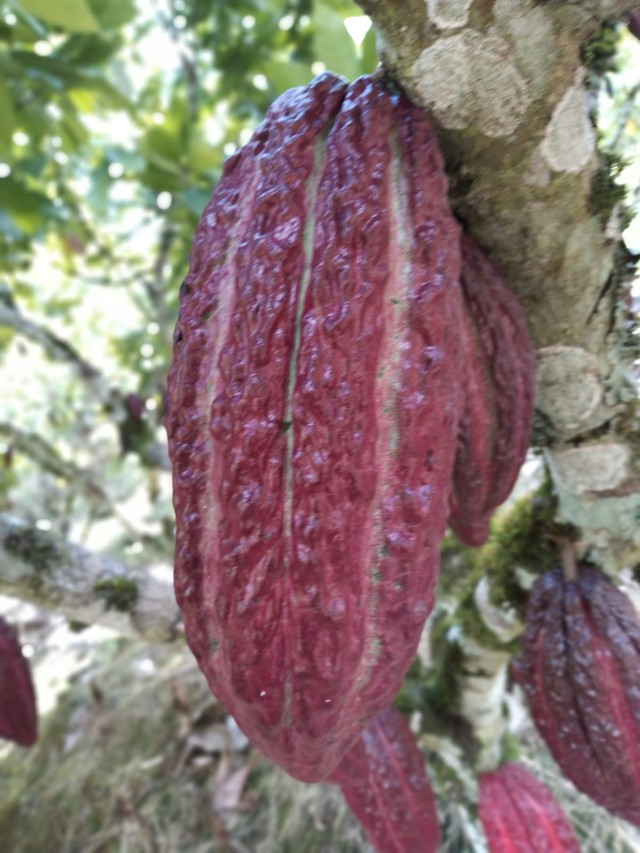Health: (158, 47, 475, 794)
